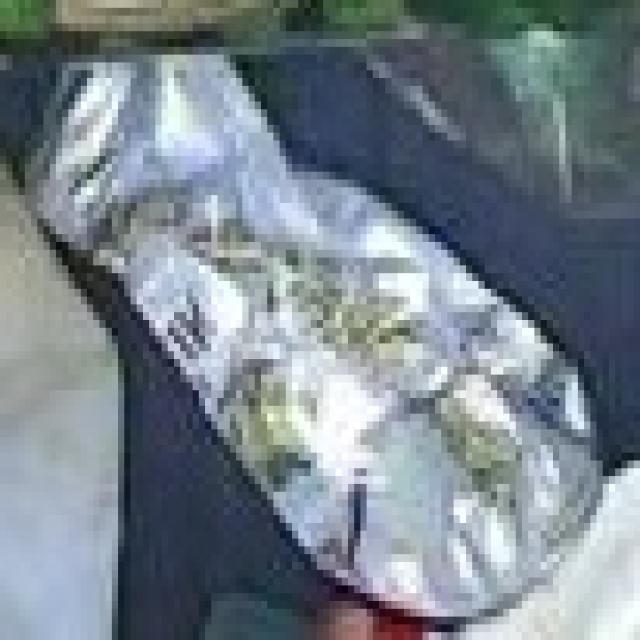can: (5, 19, 640, 640)
